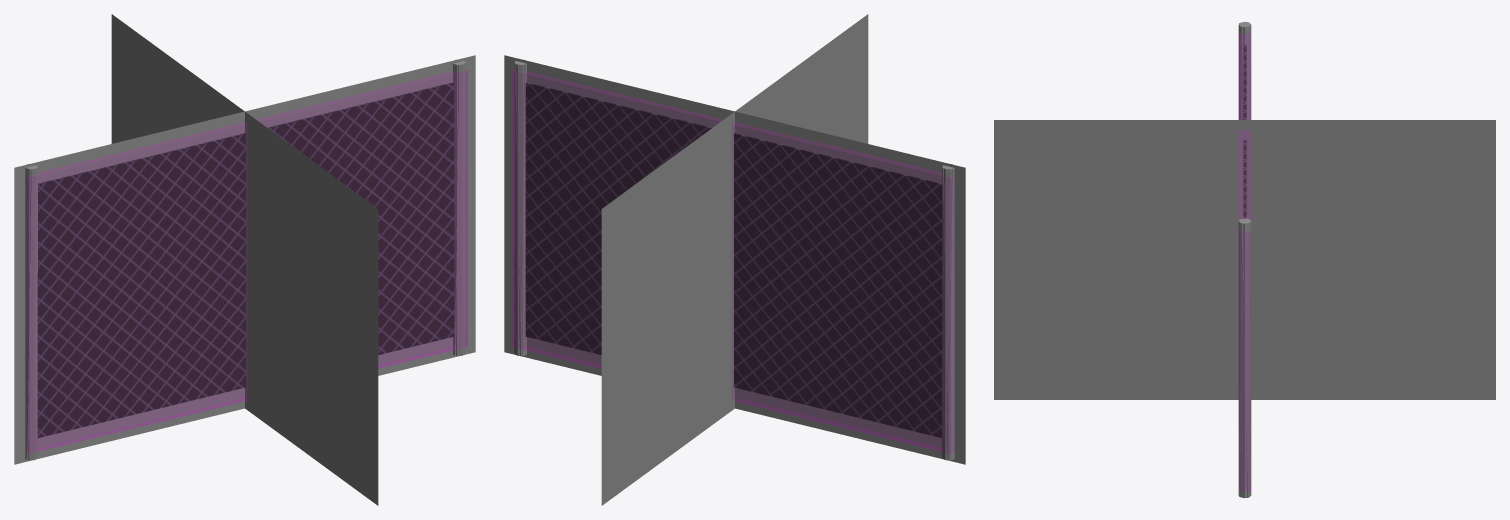
File: chainlink_3m.dae
3 views of the same model, side by side, from view 1: azimuth 30°, elevation 25°; view 2: azimuth 150°, elevation 25°; view 3: azimuth 270°, elevation 25° (orthographic). The views are drawn at different scales.
Visible parts, largest first — view 1: chainlink_3m_a800, Colmesh_panel-1, chainlink_3m_a50, chainlink_3m_a200; view 2: chainlink_3m_a800, Colmesh_panel-1, chainlink_3m_a50, chainlink_3m_a200; view 3: chainlink_3m_a50, chainlink_3m_a800, Colmesh_panel-1, chainlink_3m_a200.
Boxes of the visible parts, <box> form: chainlink_3m_a800: <box>25,59,465,460</box>; Colmesh_panel-1: <box>26,70,467,453</box>; chainlink_3m_a50: <box>14,14,475,505</box>; chainlink_3m_a200: <box>26,61,465,460</box>; chainlink_3m_a800: <box>514,59,954,460</box>; Colmesh_panel-1: <box>512,69,953,453</box>; chainlink_3m_a50: <box>504,14,965,505</box>; chainlink_3m_a200: <box>514,63,953,460</box>; chainlink_3m_a50: <box>994,120,1495,399</box>; chainlink_3m_a800: <box>1238,22,1251,497</box>; Colmesh_panel-1: <box>1239,33,1250,490</box>; chainlink_3m_a200: <box>1239,22,1250,497</box>.
Size of the model in its own units: 3.15 by 3.15 by 1.94.
3 materials, 1 textured.
